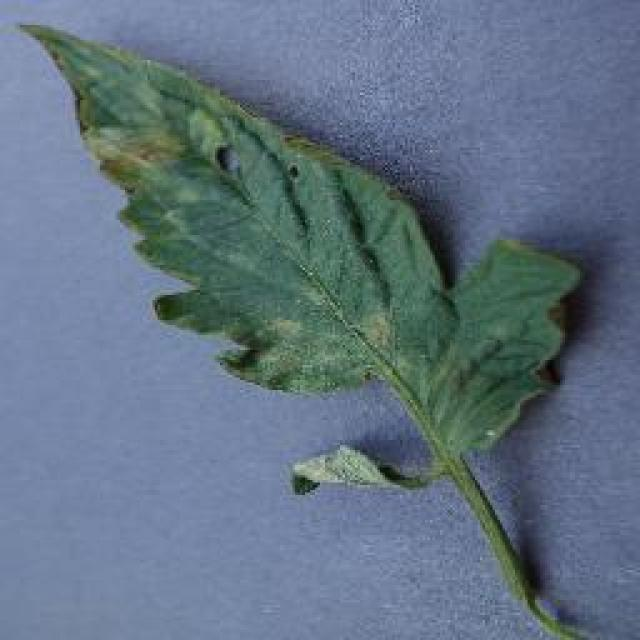Tomato mold leaf: (20, 18, 582, 508)
